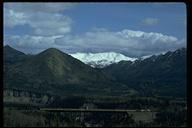cloud: (66, 26, 174, 48)
mountain: (5, 36, 186, 92)
sky: (12, 7, 179, 40)
